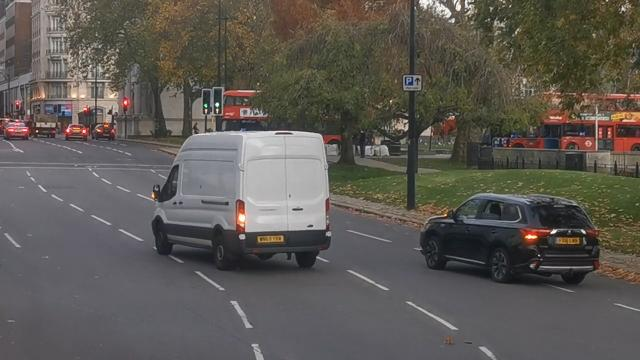car: (417, 187, 603, 290), (65, 120, 87, 143), (6, 122, 30, 141), (92, 123, 116, 141)
truck: (34, 111, 58, 139)
van: (151, 133, 332, 266)
